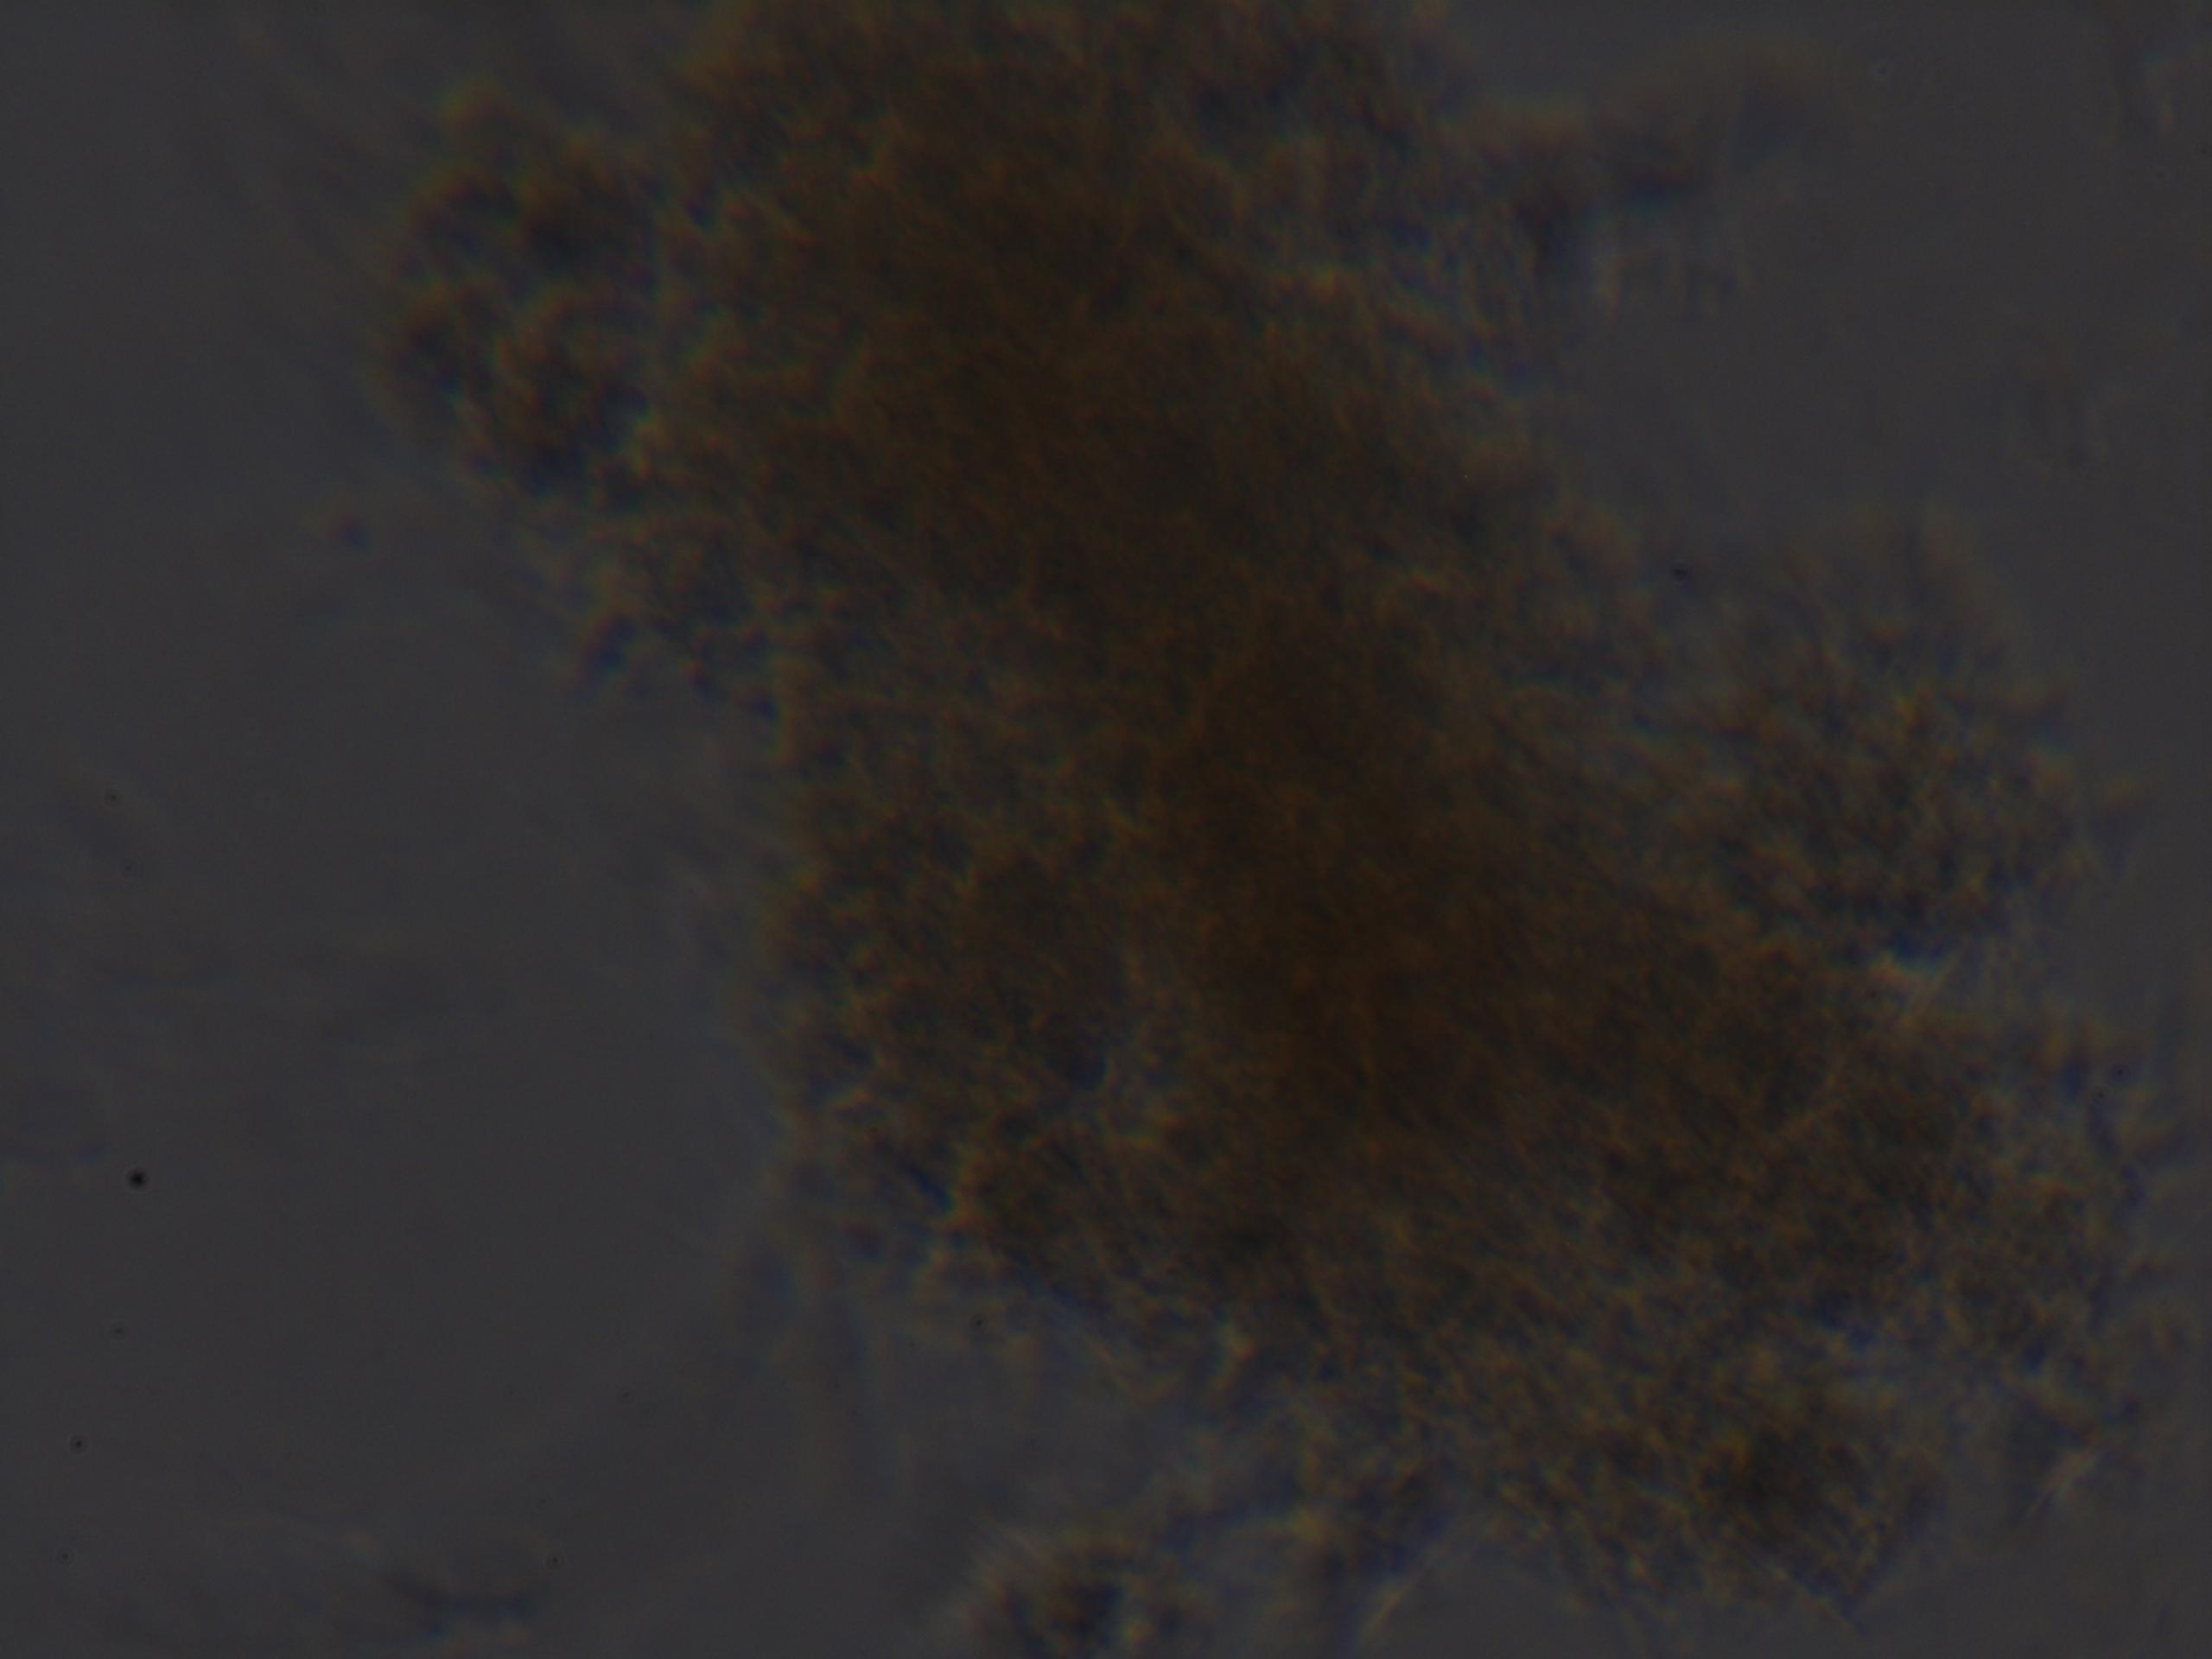spherical_floc: (404, 9, 2191, 1603)
